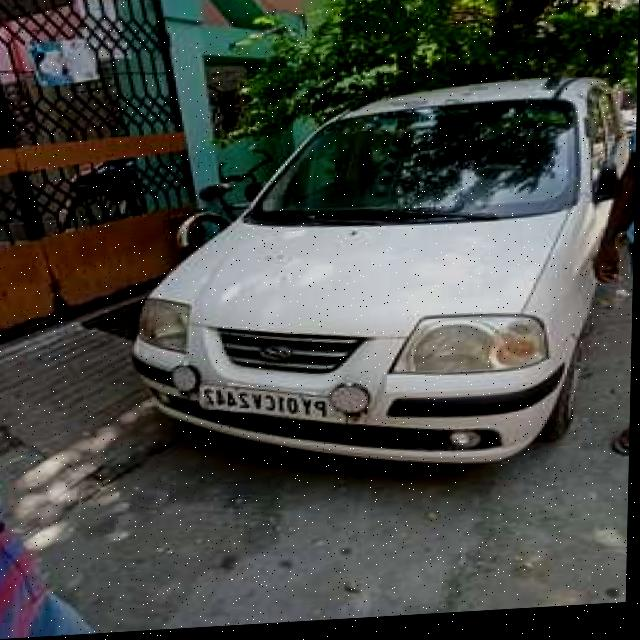plate: (200, 381, 337, 430)
